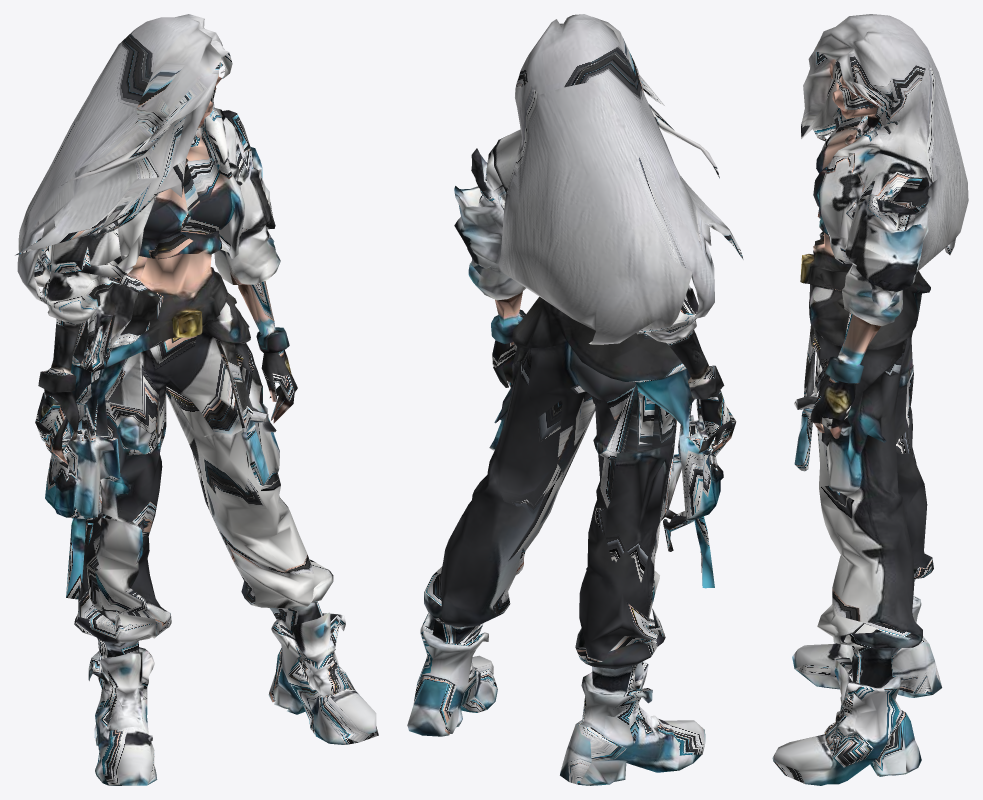
The model's file is frost-lo.glb.
3 renders of one model, left to right at view 1: azimuth 30°, elevation 25°; view 2: azimuth 150°, elevation 25°; view 3: azimuth 270°, elevation 25°, orthographic. The views are drawn at different scales.
Visible parts, largest first — view 1: model; view 2: model; view 3: model.
Boxes of the visible parts, bbox=[...] form: model: bbox=[15, 14, 378, 785]; model: bbox=[407, 14, 743, 785]; model: bbox=[772, 14, 968, 785].
Bounding box in the file's own units: 0.9017 × 1.9 × 0.4862.
Materials: 1 (1 with a texture image).
